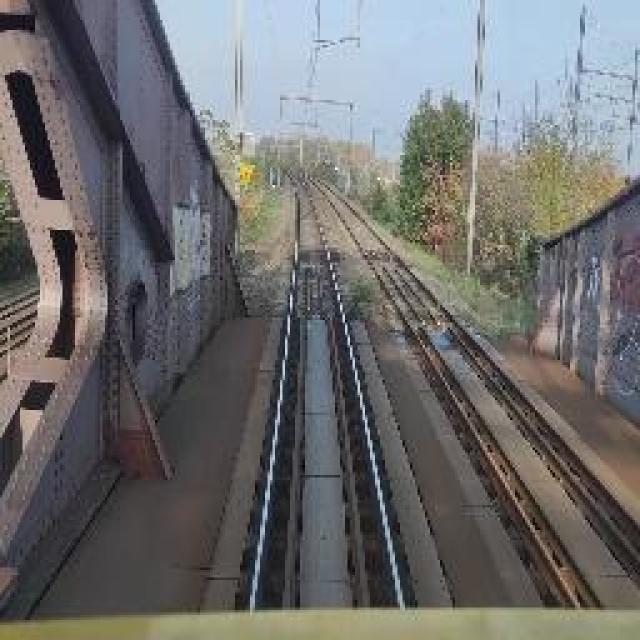rail: (304, 174, 640, 611), (221, 171, 435, 610)
